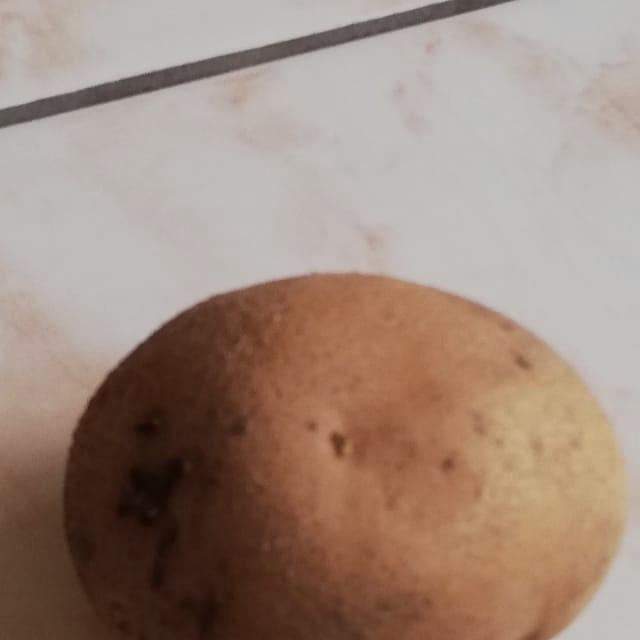potato: (32, 235, 640, 640)
